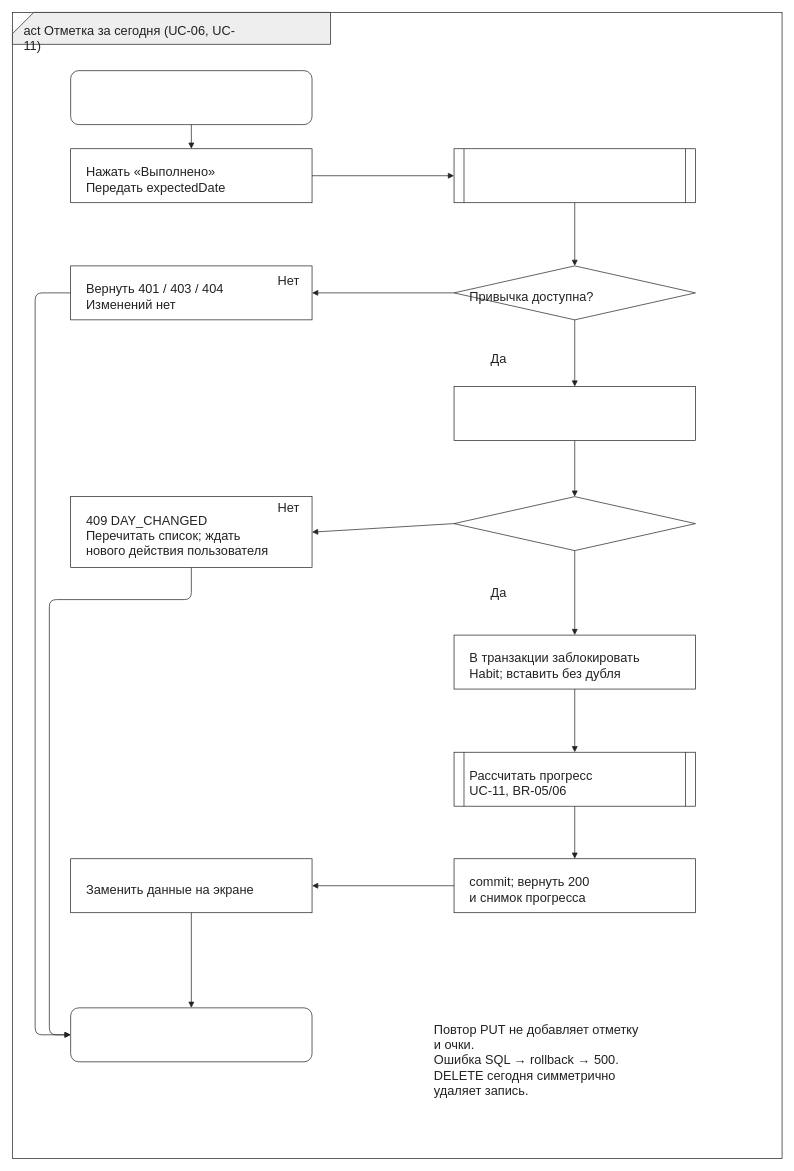
Image size: 794x1171. Some labels were removed from this diagram. The centre of each missing label's shape, as x and y in pixels:
"expectedDate = today? BR-04" goes at point 574,523.
"Конец" goes at point 191,1034.
"Начало" goes at point 191,97.
"Один снимок Clock today в Europe/Minsk" goes at point 574,413.
"Сессия, CSRF, поиск по id и ownerId (BR-01/02)" goes at point 574,175.
